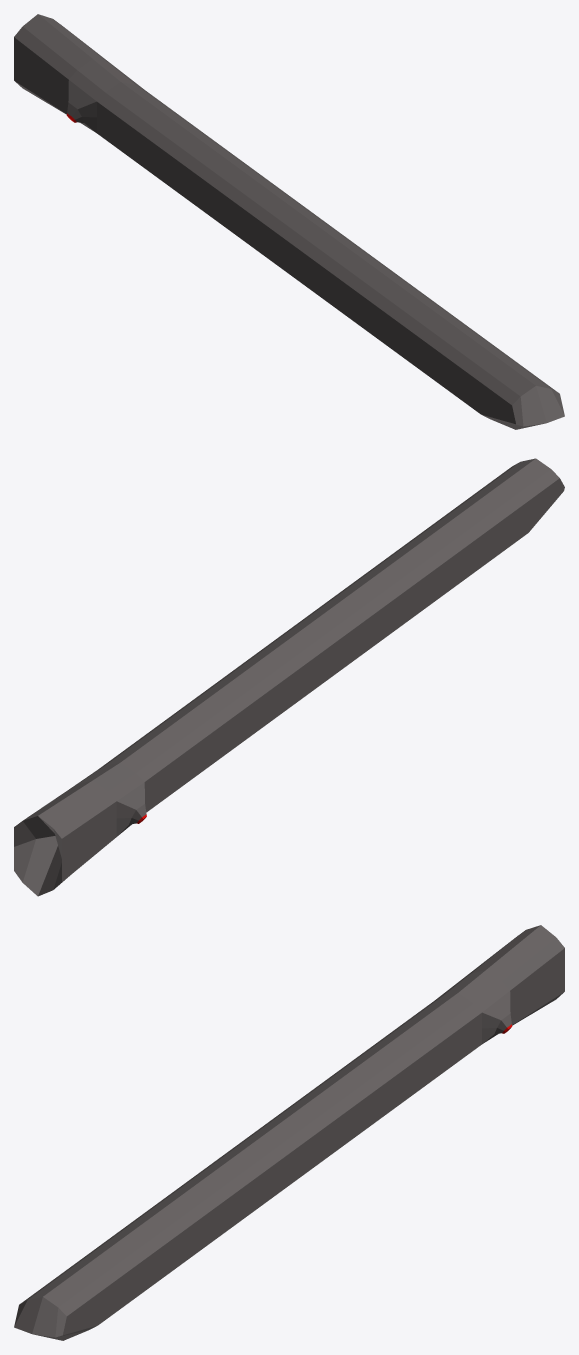
File: MCSwordSheath.fbx
3 views of the same model, one above another, from view 1: azimuth 30°, elevation 25°; view 2: azimuth 150°, elevation 25°; view 3: azimuth 330°, elevation 25° (orthographic).
Parts seen in each view (by area): view 1: MCSheath.001; view 2: MCSheath.001; view 3: MCSheath.001.
Part boxes in pixels (x1,y1,x2,y2): MCSheath.001: (14, 14, 564, 429); MCSheath.001: (14, 458, 564, 896); MCSheath.001: (14, 925, 564, 1340).
Size of the model in its own units: 0.0753 by 0.8663 by 0.0757.
Materials: 2 (1 with a texture image).
